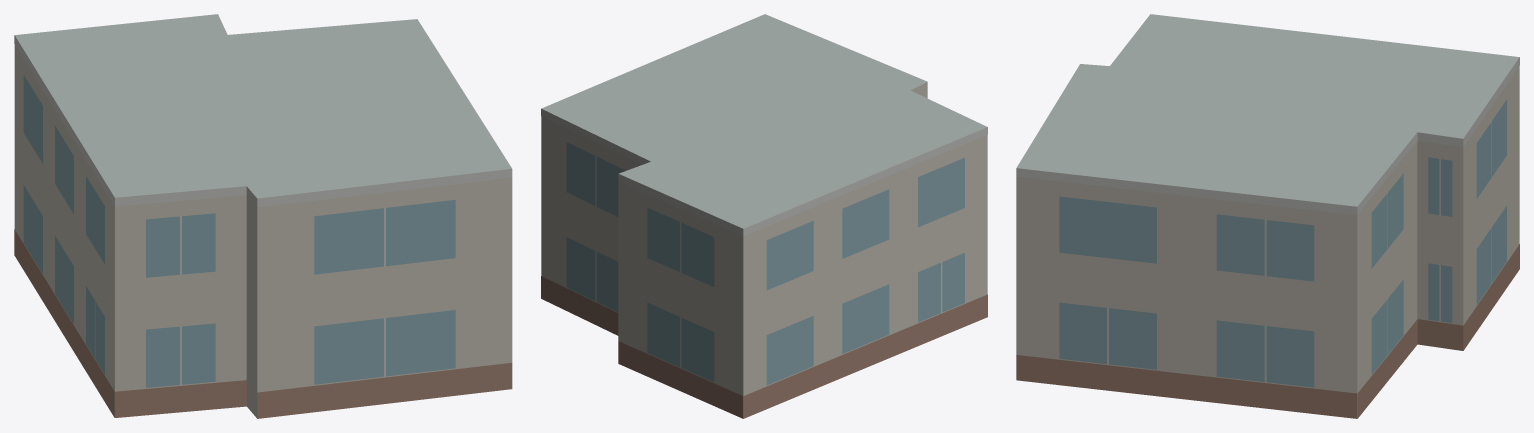
The model's file is survey-upis-32788733.glb.
3 views of the same model, side by side, from view 1: azimuth 30°, elevation 25°; view 2: azimuth 150°, elevation 25°; view 3: azimuth 270°, elevation 25° (orthographic). The views are drawn at different scales.
Visible parts, largest first — view 1: survey-upis-32788733.tmp; view 2: survey-upis-32788733.tmp; view 3: survey-upis-32788733.tmp.
Boxes of the visible parts, x1=… form: survey-upis-32788733.tmp: x1=14, y1=14, x2=512, y2=418; survey-upis-32788733.tmp: x1=541, y1=14, x2=987, y2=418; survey-upis-32788733.tmp: x1=1016, y1=14, x2=1519, y2=418.
Size of the model in its own units: 11.9 by 6.1 by 13.13.
